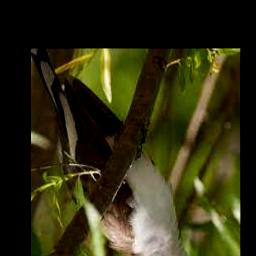Cuckoo: (32, 50, 215, 256)
